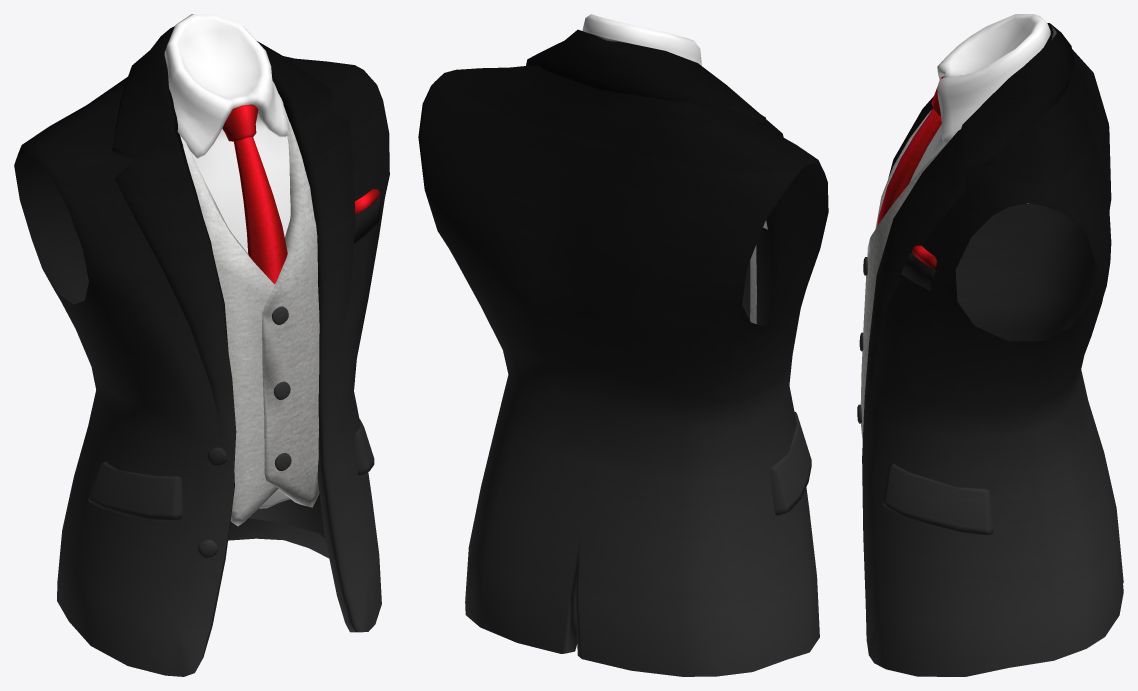
File: bodyup.fbx
The picture shows the model from 3 angles, left to right: view 1: azimuth 30°, elevation 25°; view 2: azimuth 150°, elevation 25°; view 3: azimuth 270°, elevation 25°; orthographic projection. The views are drawn at different scales.
Visible parts, largest first — view 1: bodyup; view 2: bodyup; view 3: bodyup.
Boxes of the visible parts, x1,y1,x2,y2 form: bodyup: (14,14,389,676); bodyup: (418,14,828,676); bodyup: (857,14,1123,676).
Size of the model in its own units: 29.4 by 49.01 by 19.72.
